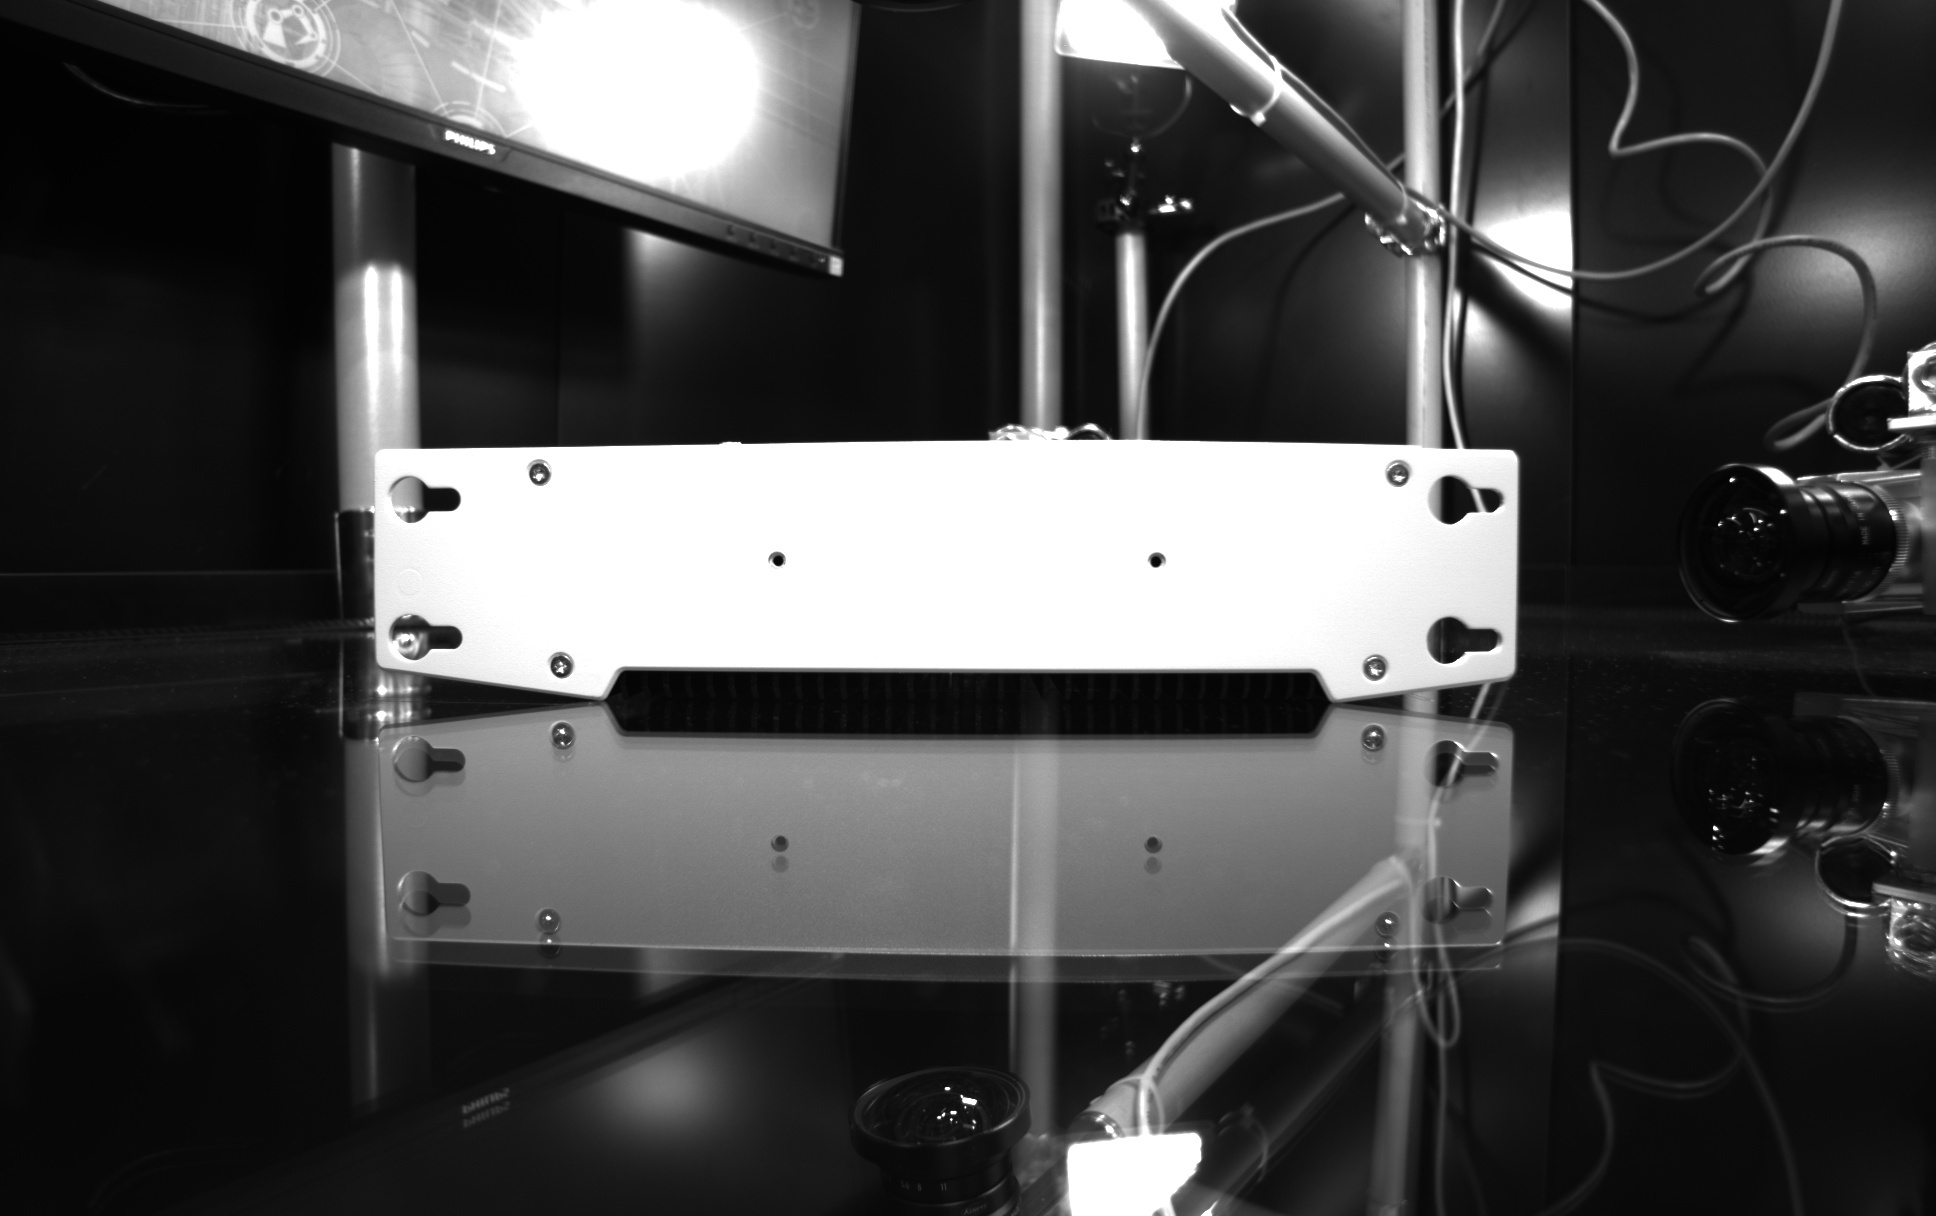CamBack: (354, 415, 1552, 702)
Schraube: (518, 452, 558, 493), (1380, 454, 1419, 495), (1356, 647, 1395, 686), (544, 646, 581, 686)
Schraube_gespiegelt: (525, 899, 567, 964), (1369, 906, 1406, 967), (1355, 720, 1391, 775), (544, 719, 579, 766)
